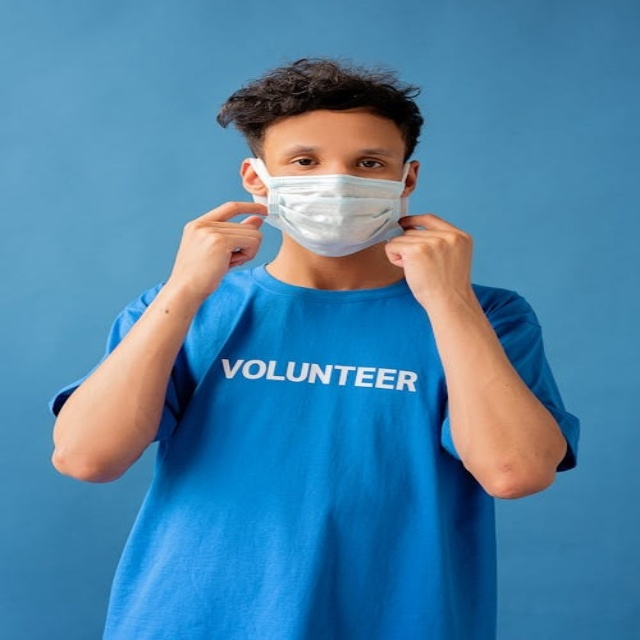Mascara: (248, 158, 412, 257)
Sin_gafas: (273, 141, 399, 173)
Sin_guantes: (166, 200, 273, 296), (387, 210, 481, 298)
